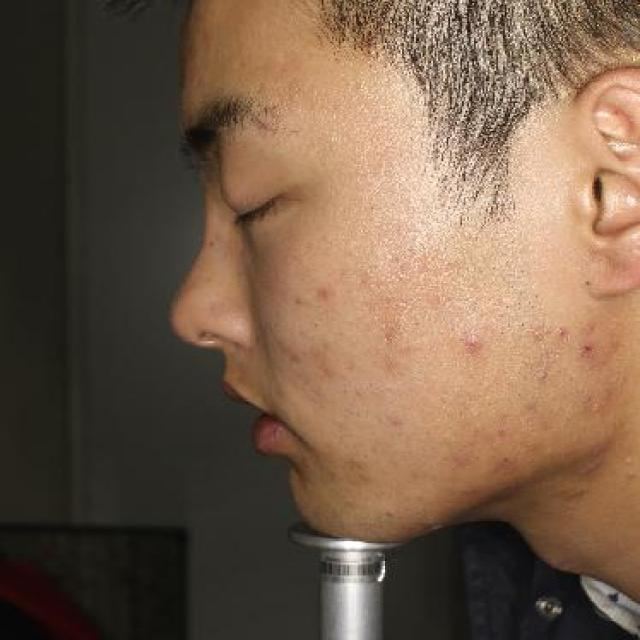Acne: (454, 326, 490, 356), (308, 280, 344, 302), (383, 409, 412, 434), (286, 290, 311, 312)
Blackheads: (571, 337, 599, 357)
Whiteheads: (549, 324, 575, 344)
